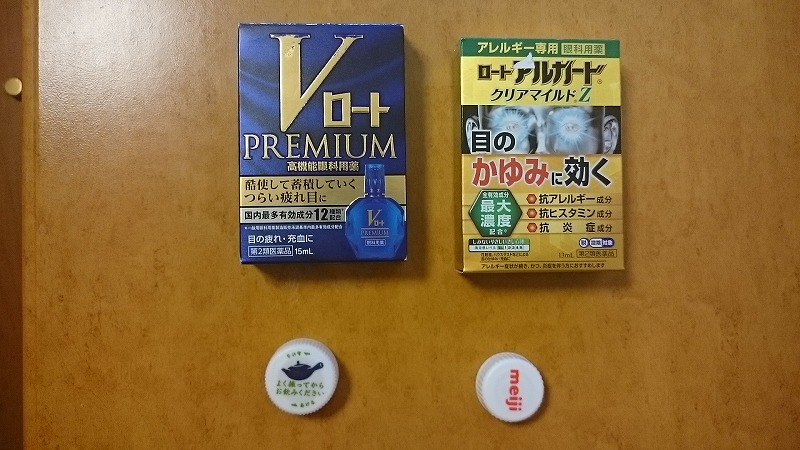A: (254, 335, 352, 419)
B: (472, 347, 553, 427)
C: (451, 32, 636, 281)
D: (234, 19, 418, 267)
